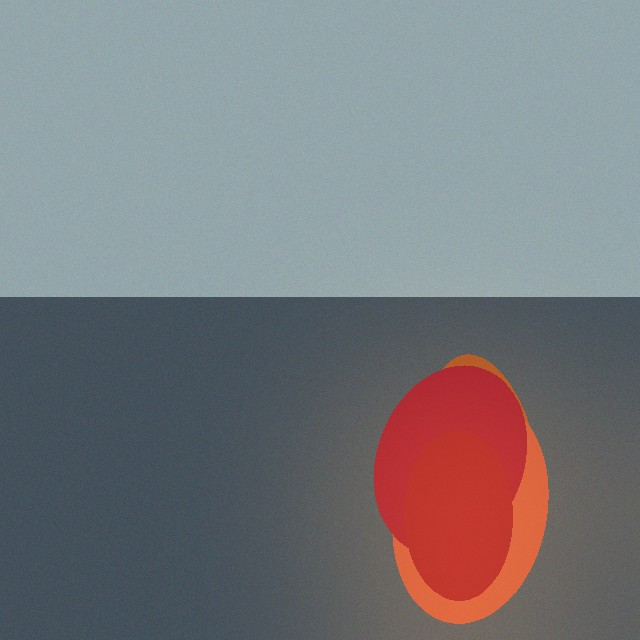fire: (393, 403, 535, 607)
